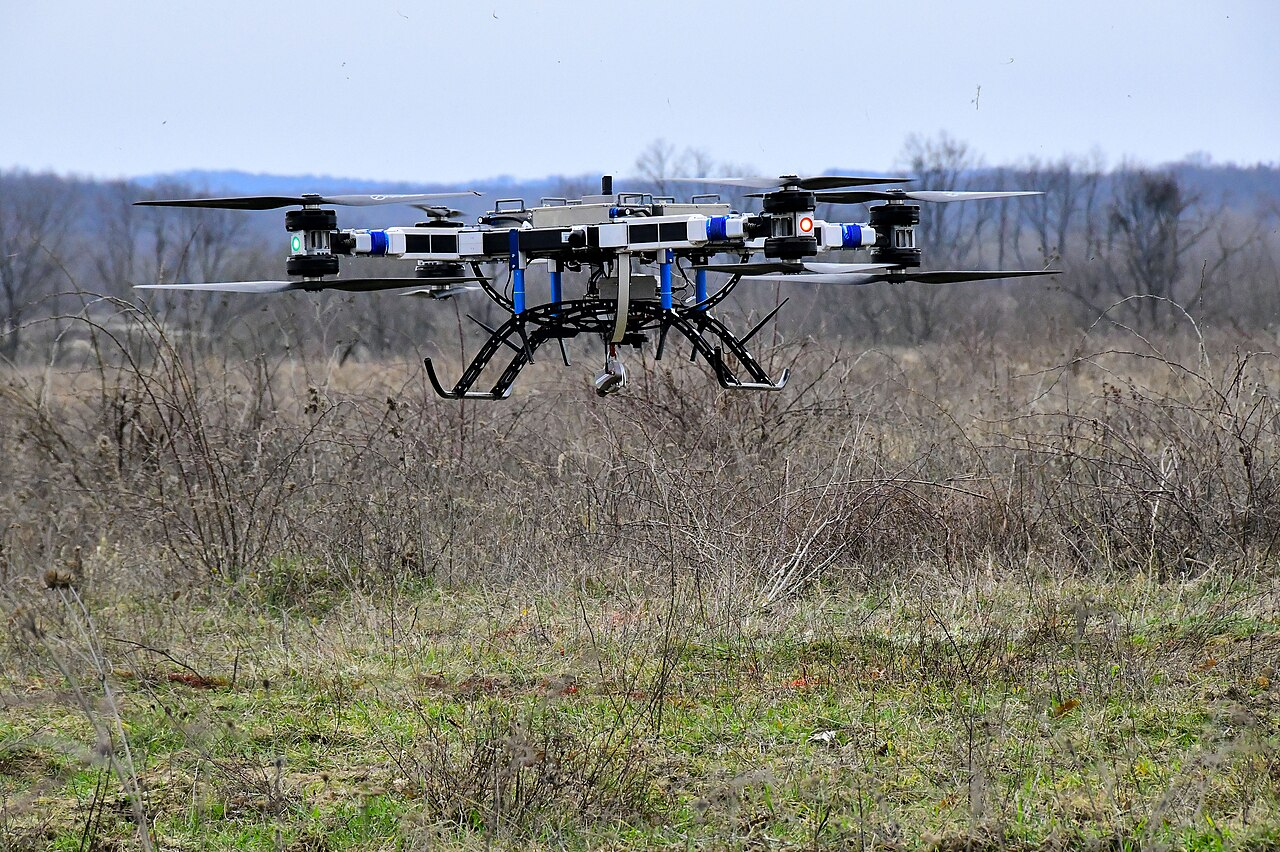drone: (128, 170, 1065, 400)
